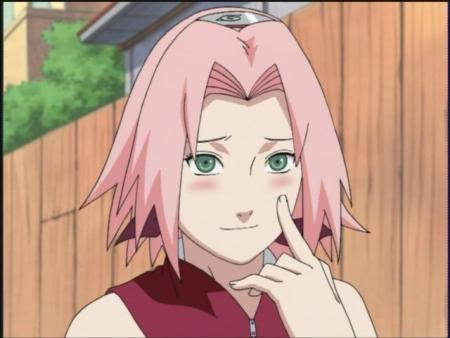sakura: (145, 7, 313, 265)
